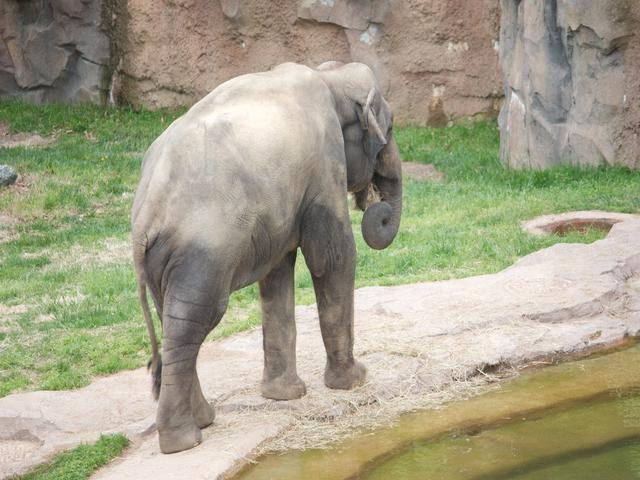elephant: (62, 24, 434, 432)
